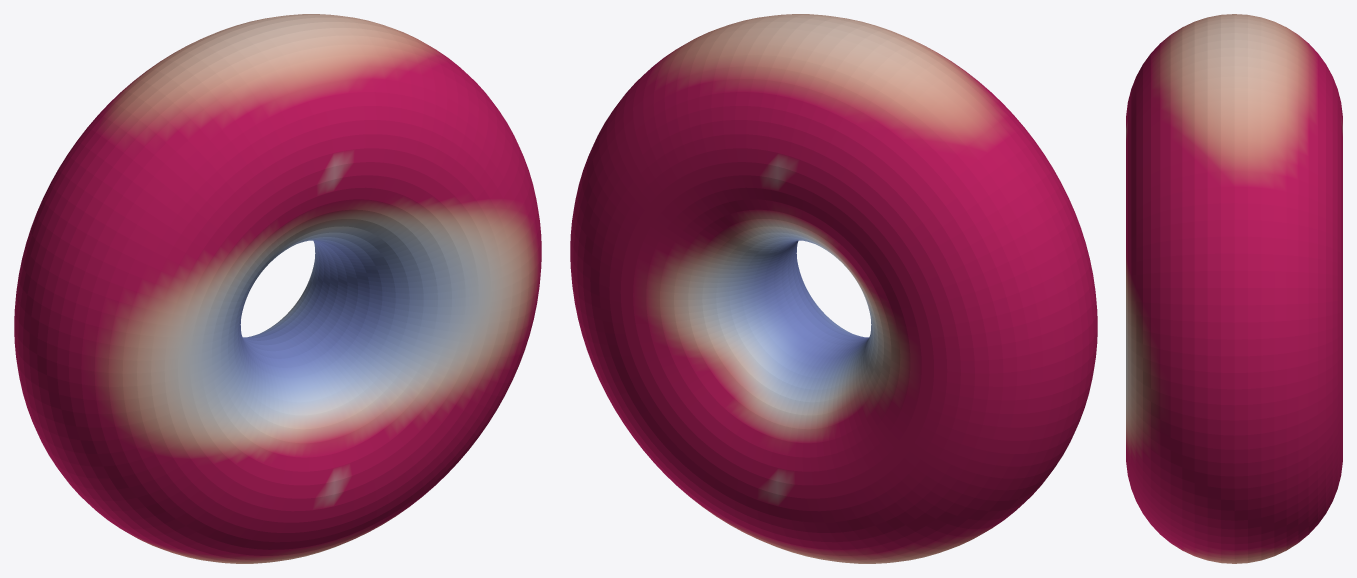
The picture shows the model from 3 angles, left to right: view 1: azimuth 30°, elevation 25°; view 2: azimuth 150°, elevation 25°; view 3: azimuth 270°, elevation 25°; orthographic projection. The views are drawn at different scales.
Parts seen in each view (by area): view 1: world; view 2: world; view 3: world.
Boxes of the visible parts, bbox=[...] form: world: bbox=[14, 14, 541, 563]; world: bbox=[570, 14, 1097, 563]; world: bbox=[1126, 14, 1342, 563].
Size of the model in its own units: 25.33 by 25.33 by 9.98.
